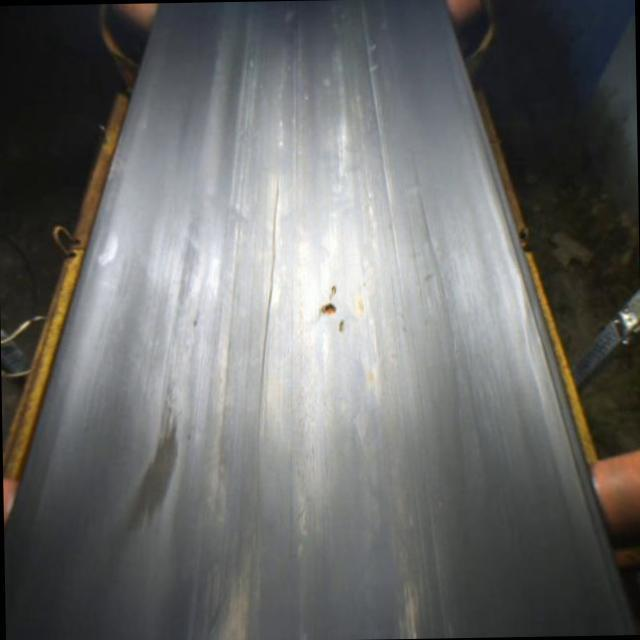Hole: (318, 302, 338, 319)
Tear: (249, 177, 291, 519)
Wear: (122, 400, 186, 534)
